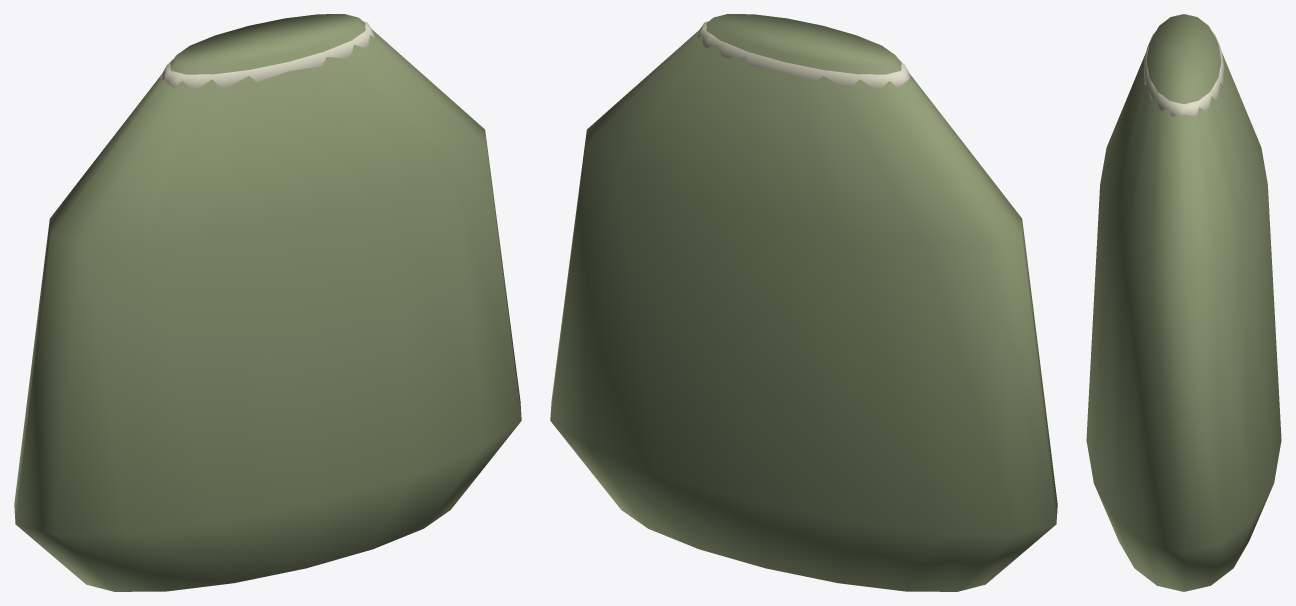
The model's file is survival-food-and-preservation-dried-fruit-bag-15fed9f9__21756.glb.
3 views of the same model, side by side, from view 1: azimuth 30°, elevation 25°; view 2: azimuth 150°, elevation 25°; view 3: azimuth 270°, elevation 25° (orthographic). The views are drawn at different scales.
Parts seen in each view (by area): view 1: dried-fruit-bag; view 2: dried-fruit-bag; view 3: dried-fruit-bag.
Boxes of the visible parts, x1=… form: dried-fruit-bag: x1=14, y1=14, x2=521, y2=591; dried-fruit-bag: x1=550, y1=14, x2=1057, y2=591; dried-fruit-bag: x1=1086, y1=14, x2=1281, y2=591.
Bounding box in the file's own units: 0.15 × 0.15 × 0.055.
